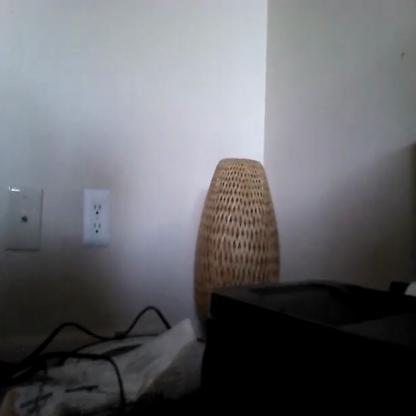OUTLET: (82, 188, 110, 245)
